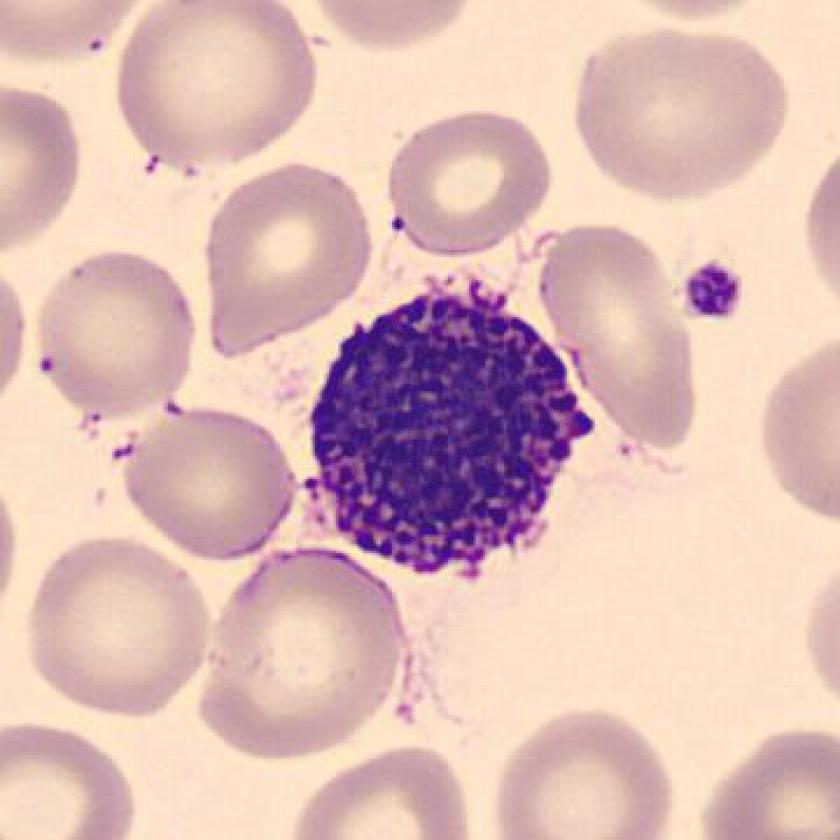basophil: (305, 281, 592, 584)
